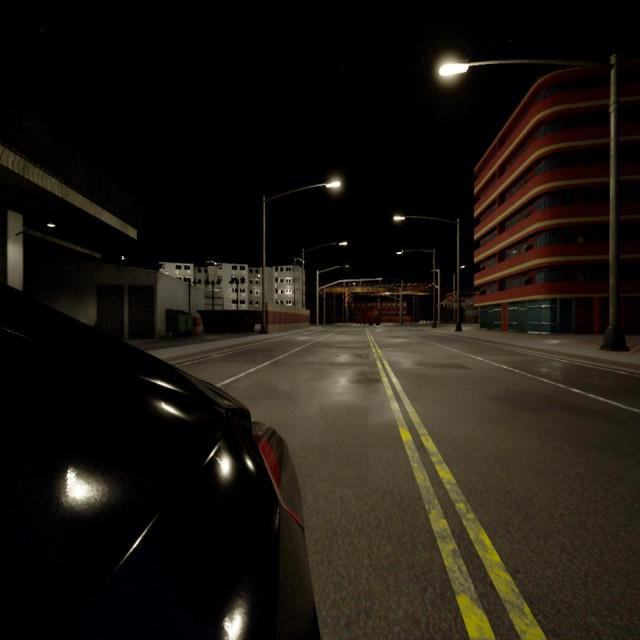Vehicle: (0, 287, 317, 638), (368, 309, 381, 326), (356, 312, 365, 325)
traffic_light: (371, 294, 373, 297), (382, 294, 384, 296)
